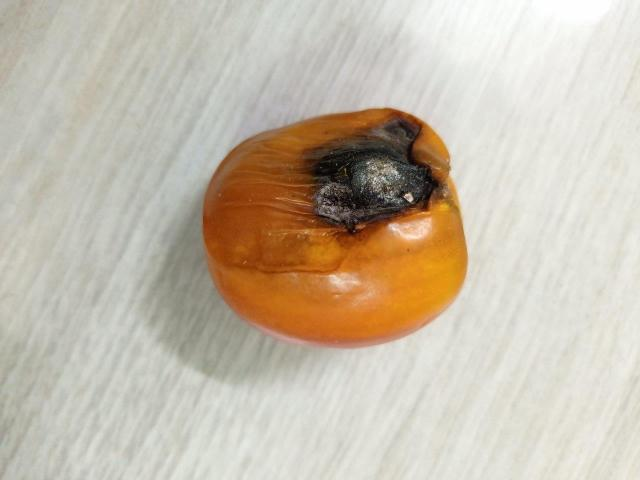defect: (196, 107, 474, 347)
